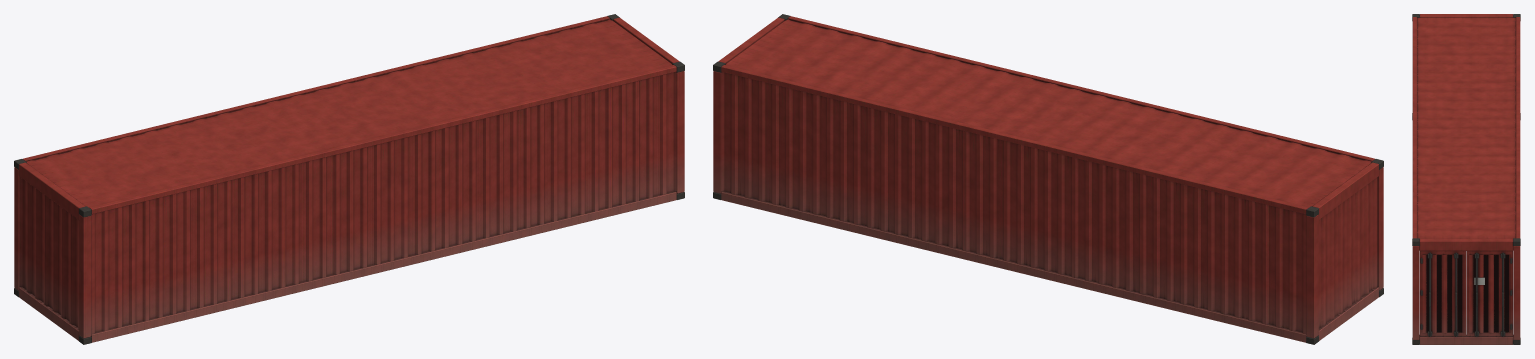
File: container40_red.glb
The picture shows the model from 3 angles, left to right: view 1: azimuth 30°, elevation 25°; view 2: azimuth 150°, elevation 25°; view 3: azimuth 270°, elevation 25°; orthographic projection. The views are drawn at different scales.
Parts seen in each view (by area): view 1: container40_red; view 2: container40_red; view 3: container40_red.
Part boxes in pixels (x1=…): container40_red: x1=14, y1=14, x2=684, y2=344; container40_red: x1=713, y1=14, x2=1383, y2=344; container40_red: x1=1412, y1=14, x2=1520, y2=344.
Size of the model in its own units: 12.31 by 2.59 by 2.45.
1 material, 1 textured.
